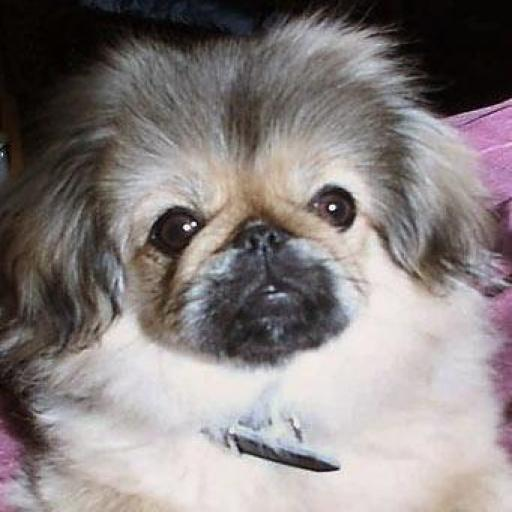dog_face: (14, 37, 462, 348)
